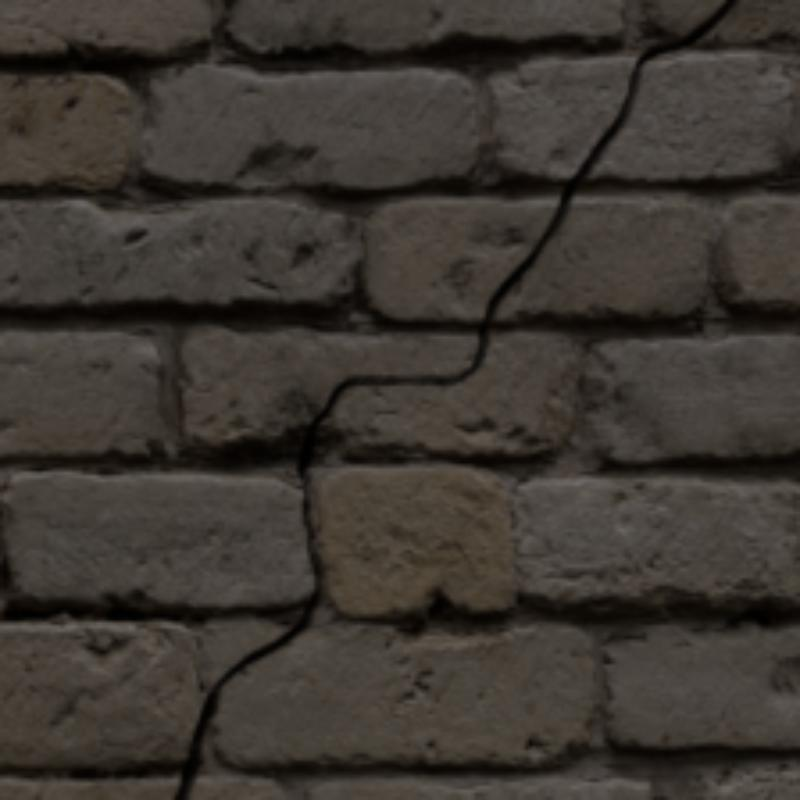crack: (175, 68, 636, 796), (636, 0, 736, 68)
